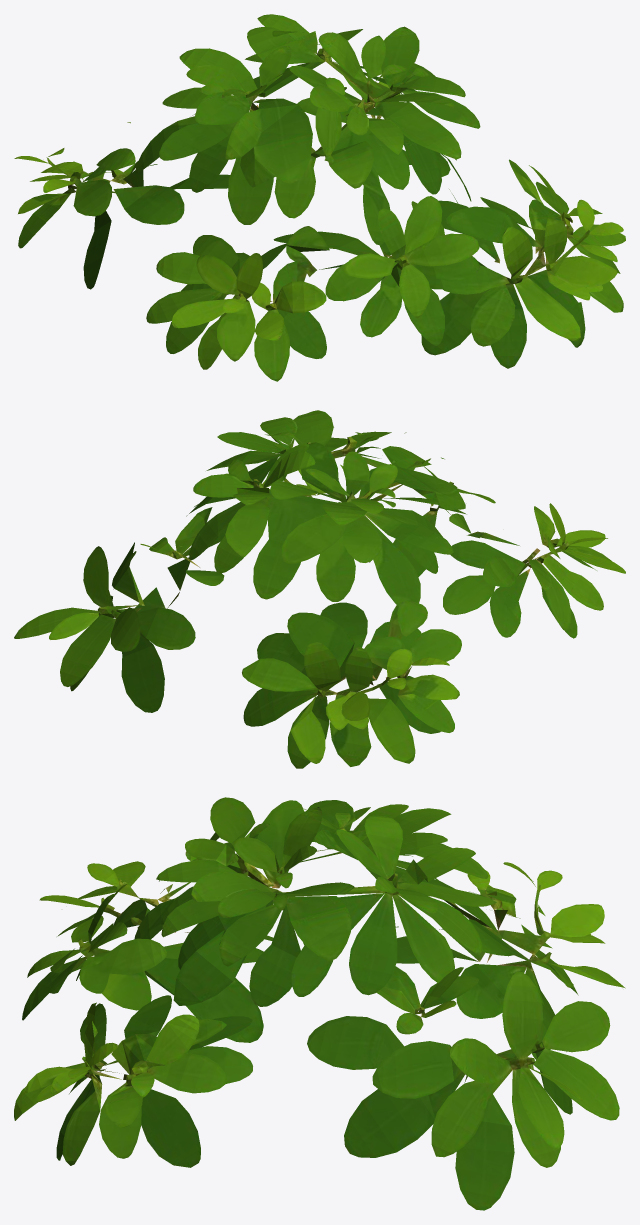
The model's file is leaf_su.glb.
3 renders of one model, top to bottom at view 1: azimuth 30°, elevation 25°; view 2: azimuth 150°, elevation 25°; view 3: azimuth 270°, elevation 25°, orthographic. The views are drawn at different scales.
Parts seen in each view (by area): view 1: geometry_0; view 2: geometry_0; view 3: geometry_0.
Boxes of the visible parts, box(x1,y1,x2,y2) form: geometry_0: box(14, 14, 625, 381); geometry_0: box(14, 410, 625, 768); geometry_0: box(14, 797, 625, 1210).
Bounding box in the file's own units: 0.2998 × 0.1709 × 0.3157.
Materials: 1 (1 with a texture image).
